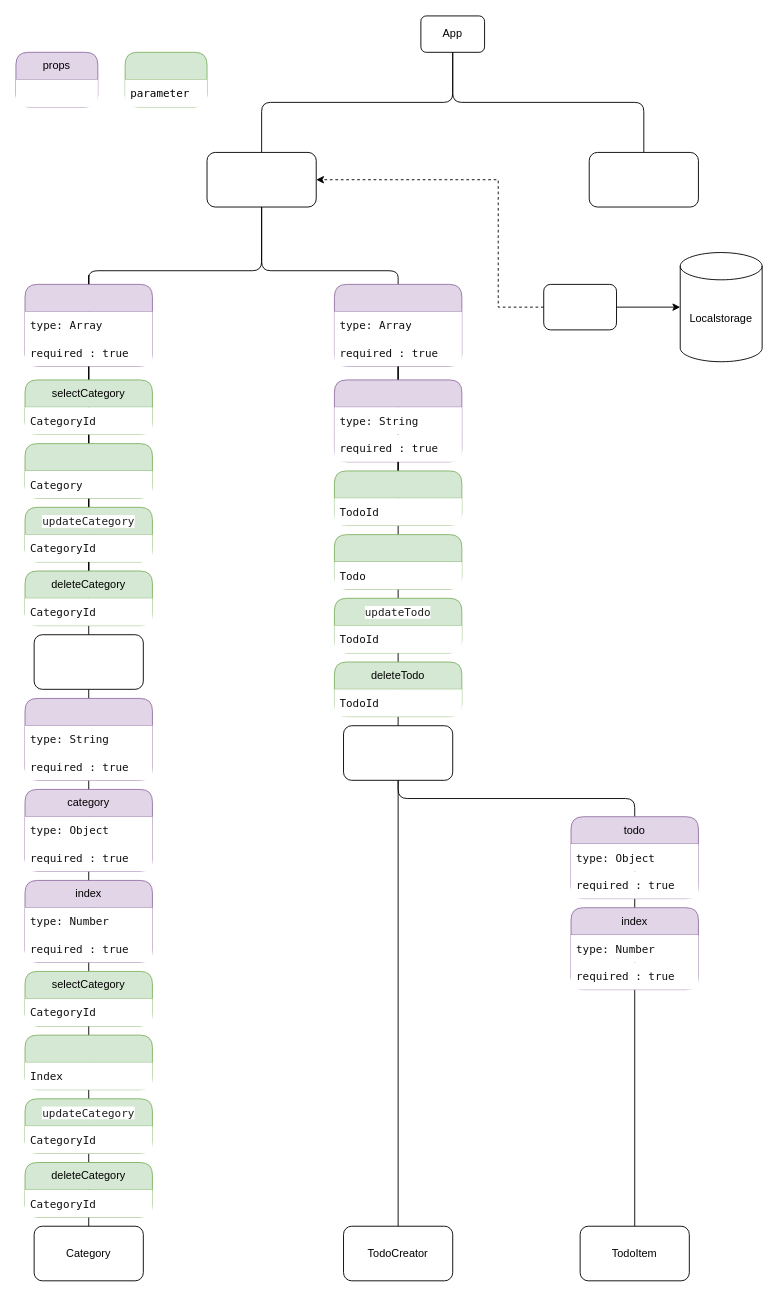
Some shapes in this 778 by 1297 pixel diagram are drawn without their labels. The shapes that lost their labels are listed below. From the top down, each one's box as (x1, y1, x2, y2) in pixels, then its label:
(15, 79, 97, 106): attribute
(124, 51, 207, 107): emit
(206, 152, 316, 207): TodoHome
(588, 152, 698, 207): TodoHeader
(24, 283, 152, 366): categoryList
(334, 283, 462, 366): todoList
(543, 283, 617, 330): Store
(334, 379, 462, 462): filterKey
(24, 443, 152, 498): addCategory
(334, 470, 462, 526): selectTodo
(334, 534, 462, 589): createTodo
(33, 634, 143, 689): CategoryItem
(24, 698, 152, 780): key
(343, 725, 453, 780): TodoView
(24, 1034, 152, 1090): editCategory
